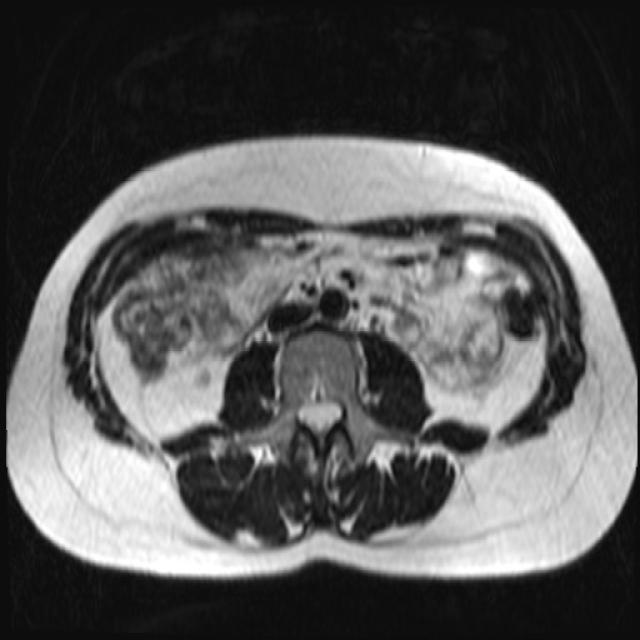sag: (193, 365, 214, 389)
